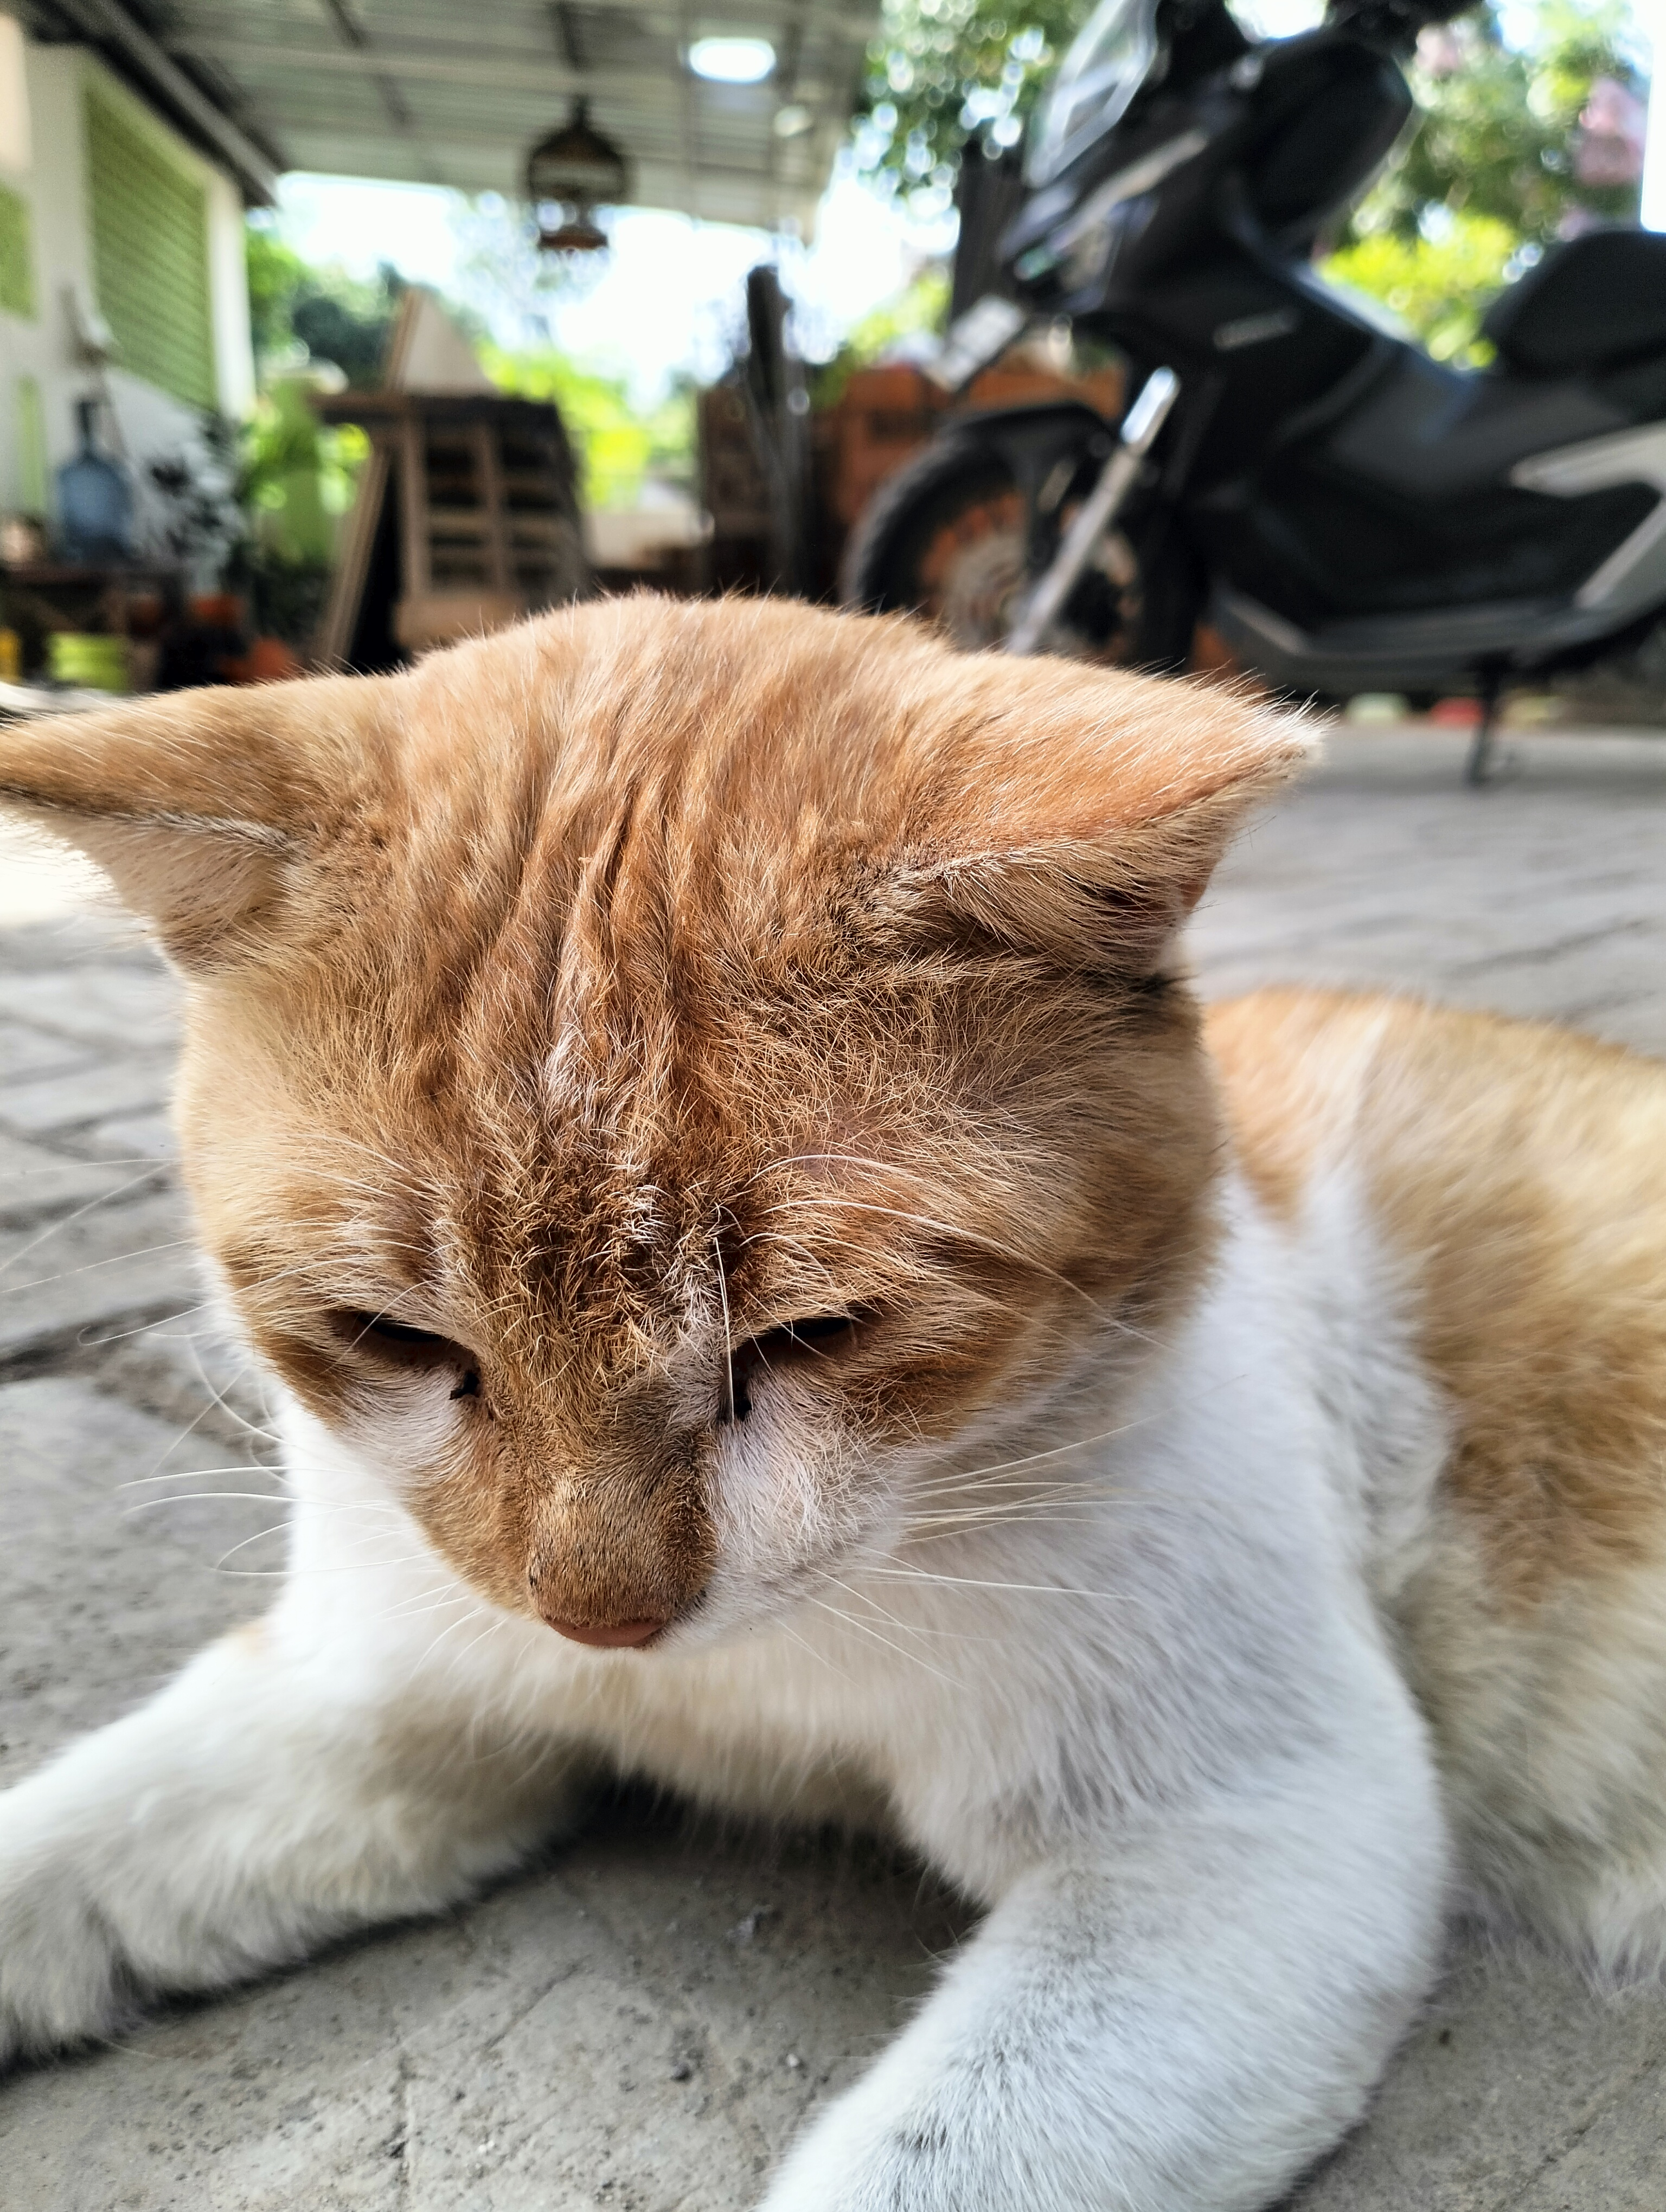oyen: (28, 558, 1356, 1717)
